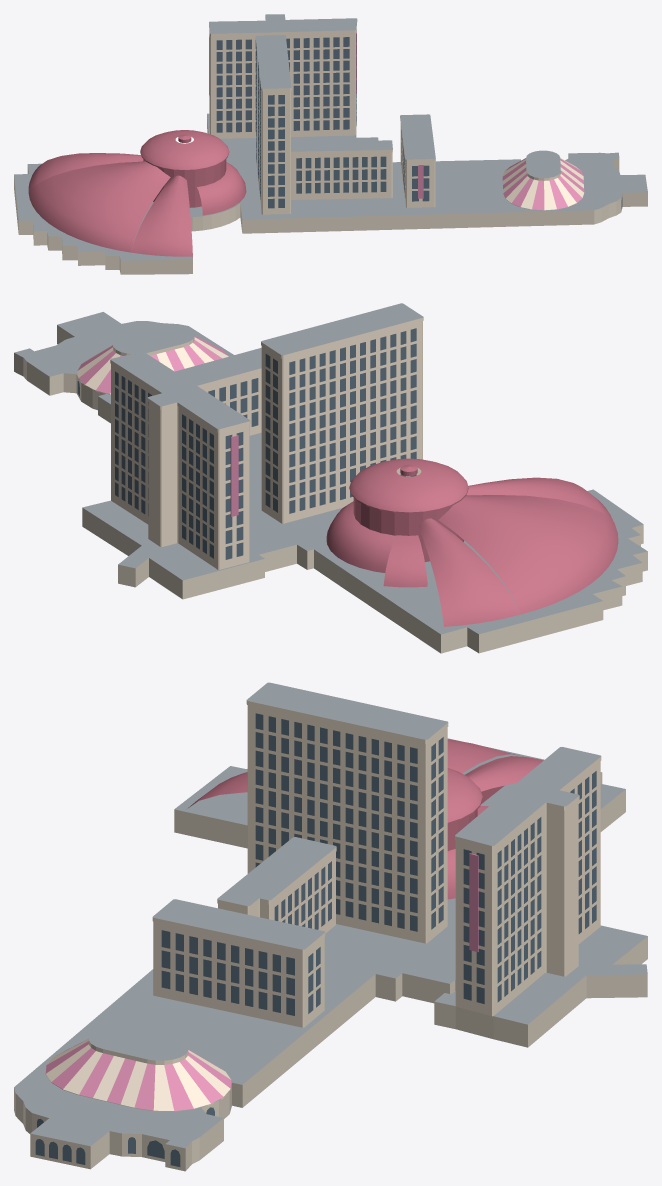
The model's file is lv-circus-circus.glb.
3 views of the same model, one above another, from view 1: azimuth 30°, elevation 25°; view 2: azimuth 150°, elevation 25°; view 3: azimuth 270°, elevation 25° (orthographic). The views are drawn at different scales.
Parts seen in each view (by area): view 1: Circus Circus; view 2: Circus Circus; view 3: Circus Circus.
Boxes of the visible parts, bbox=[...] form: Circus Circus: bbox=[14, 14, 647, 274]; Circus Circus: bbox=[14, 303, 647, 653]; Circus Circus: bbox=[14, 682, 647, 1171].
Bounding box in the file's own units: 421 × 108 × 274.
